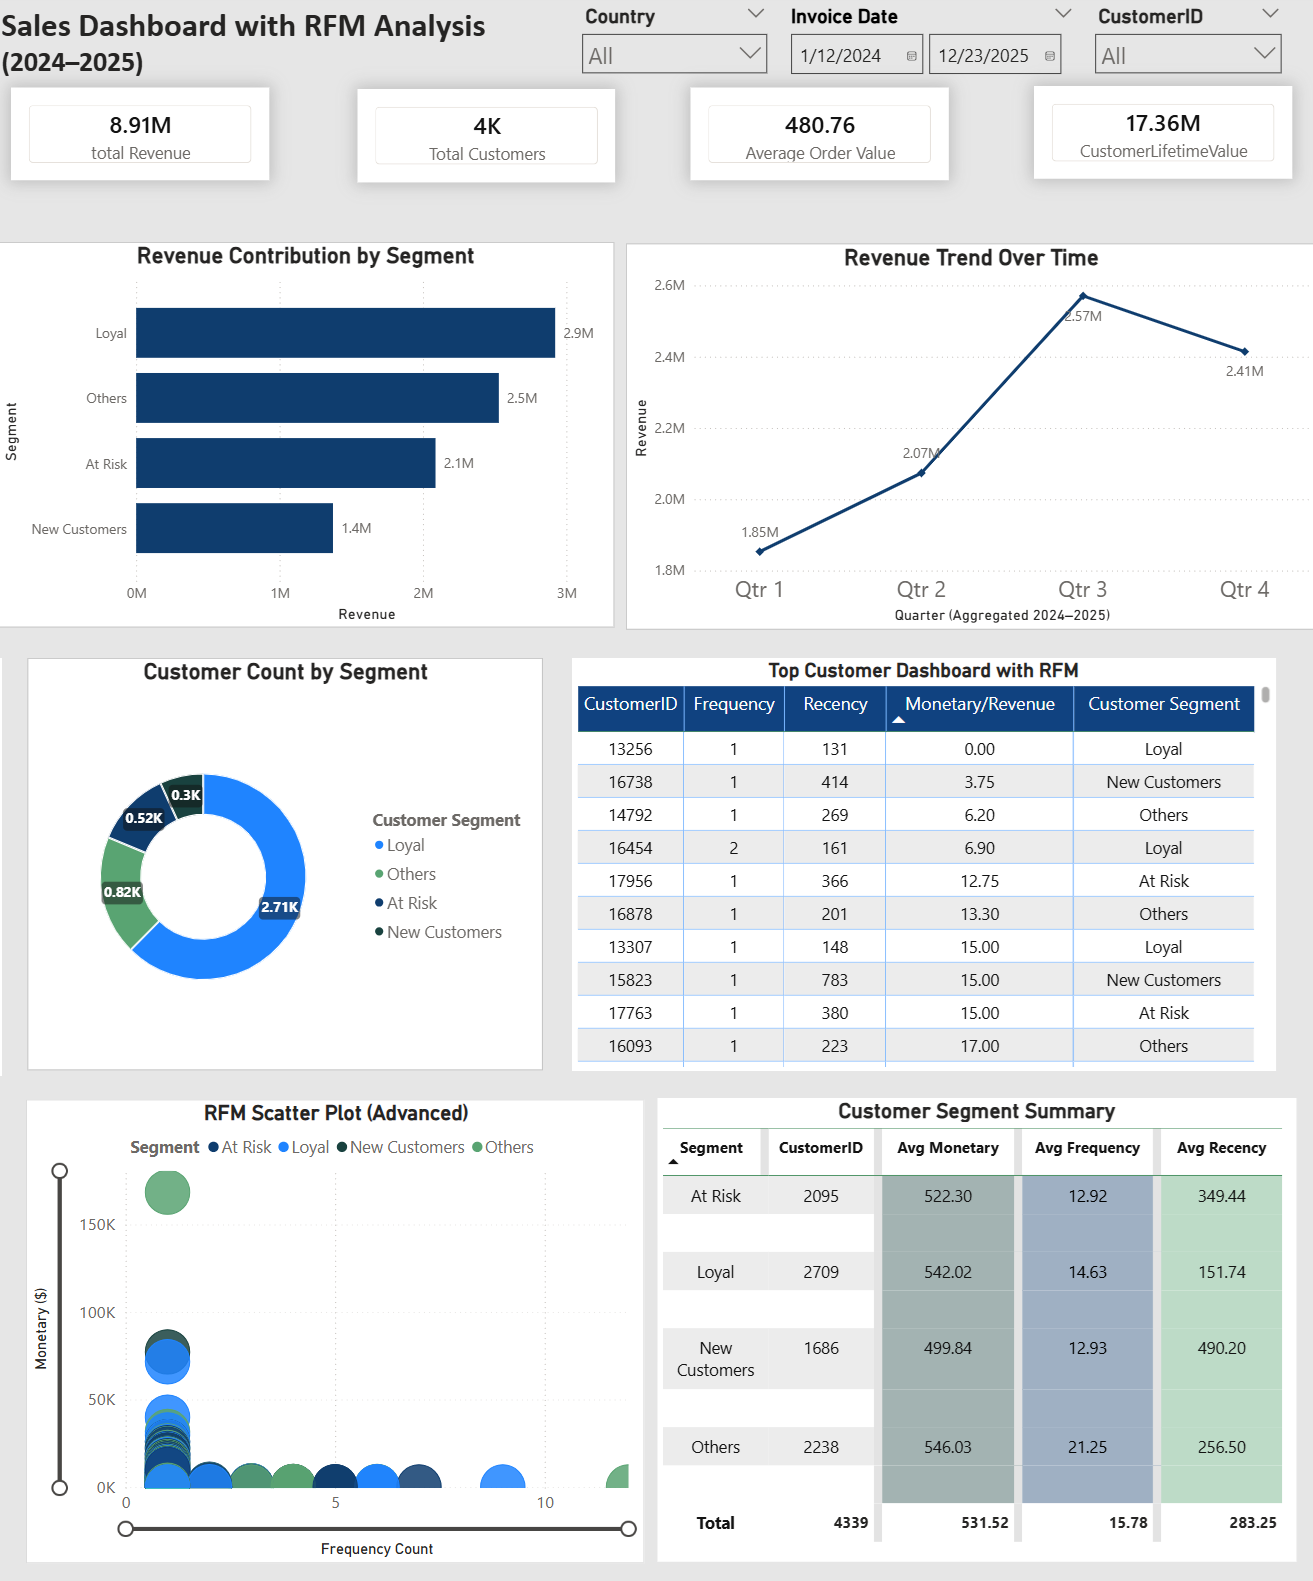

Layout of this report page (visuals, bound fields, positions):
{"tool":"powerbi","page":{"name":"Dashboard_3","canvas":[1280,720],"ordinal":2},"visuals":[{"type":"scatterChart","title":"RFM Scatter Plot (Advanced)","fields":{"Size":["Count(Customer Summary.Monetary)"],"X":["CountNonNull(Customer Summary.Frequency)"],"Y":["Customer Summary.Monetary"],"Series":["Customer Detail Table.Customer Segment"]},"box":[26.5,240.2,600,450],"z":0},{"type":"pivotTable","title":"Customer Segment Summary","fields":{"Values":["Count(Customer Summary.CustomerID)","Avg(Customer Summary.Frequency)","Avg(Customer Summary.Monetary)","Avg(Customer Summary.Recency)"],"Rows":["Customer Detail Table.Customer Segment"]},"box":[639.4,239.4,620,450],"z":1000},{"type":"textbox","box":[0,0,558.9,84.4],"z":2000},{"type":"cardVisual","fields":{"Data":["OnlineRetail.Monetary"]},"box":[14.6,85.9,250.4,90.2],"z":3000},{"type":"cardVisual","fields":{"Data":["OnlineRetail.Total Customers in onlineRetail"]},"box":[350.8,86.8,250,90.5],"z":4000},{"type":"cardVisual","fields":{"Data":["OnlineRetail.Average Order Value"]},"box":[673.9,85.9,250.4,90.2],"z":5000},{"type":"cardVisual","fields":{"Data":["OnlineRetail.Customer Lifetime Value"]},"box":[1007.2,84.4,250.4,90.2],"z":6000},{"type":"slicer","fields":{"Values":["OnlineRetail.Country"]},"box":[558.9,0,199.4,90.2],"z":7000},{"type":"slicer","fields":{"Values":["OnlineRetail.InvoiceDate"]},"box":[758.3,0,298.4,170.3],"z":8000},{"type":"slicer","fields":{"Values":["OnlineRetail.CustomerID"]},"box":[1056.7,0,200.9,90.2],"z":9000}]}

Visuals, with their boxes on the page's 1280x720 design canvas (x1, y1, x2, y2). These are canvas units, not pixel positions in the 1313x1581 screenshot, which may show the page scaled, cropped or inside an application window:
"RFM Scatter Plot (Advanced)" scatterChart: (left=26, top=240, right=626, bottom=690)
"Customer Segment Summary" pivotTable: (left=639, top=239, right=1259, bottom=689)
textbox: (left=0, top=0, right=559, bottom=84)
cardVisual - OnlineRetail.Monetary: (left=15, top=86, right=265, bottom=176)
cardVisual - OnlineRetail.Total Customers in onlineRetail: (left=351, top=87, right=601, bottom=177)
cardVisual - OnlineRetail.Average Order Value: (left=674, top=86, right=924, bottom=176)
cardVisual - OnlineRetail.Customer Lifetime Value: (left=1007, top=84, right=1258, bottom=175)
slicer - OnlineRetail.Country: (left=559, top=0, right=758, bottom=90)
slicer - OnlineRetail.InvoiceDate: (left=758, top=0, right=1057, bottom=170)
slicer - OnlineRetail.CustomerID: (left=1057, top=0, right=1258, bottom=90)
